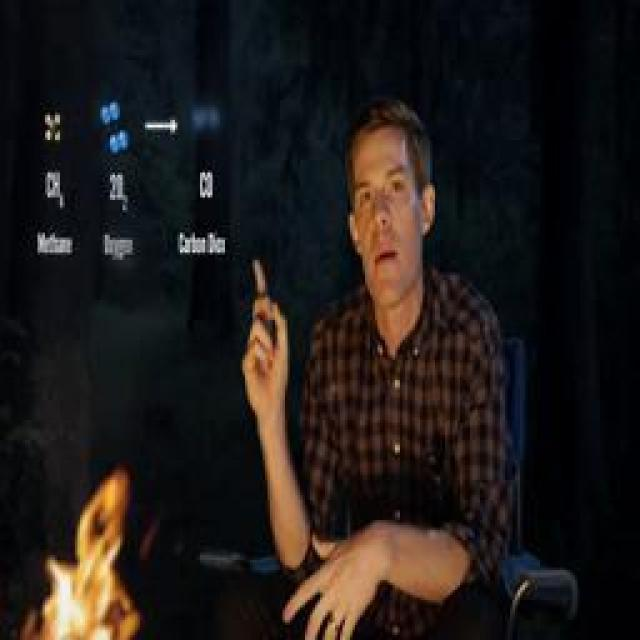Fire: (26, 467, 141, 640)
